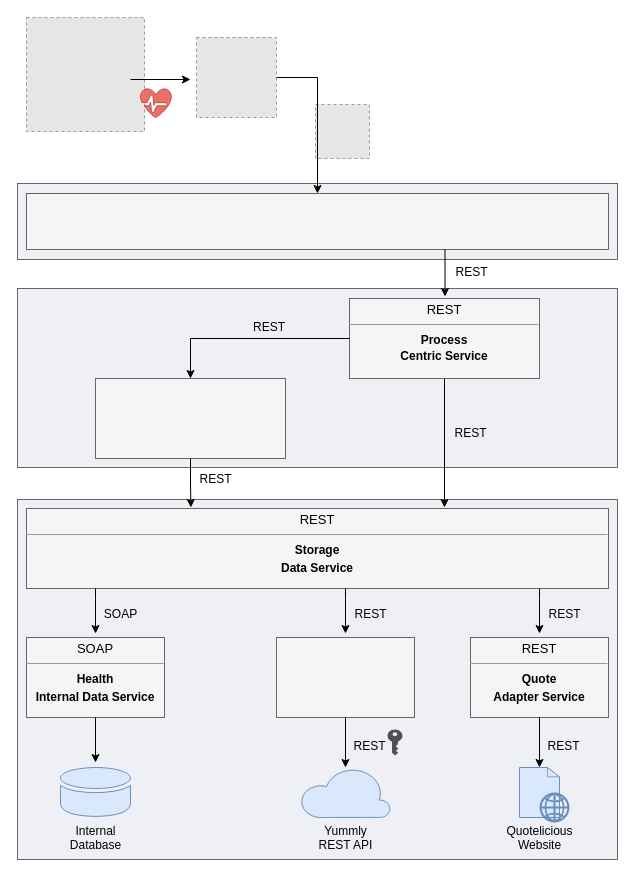
Some shapes in this 635 by 877 pixel diagram are drawn without their labels. Grey dashed boxes stand in for pictures. The shapes that lost their labels are listed below. From the top down, each one's centre as x and y in pixels, then its label:
(x=317, y=221): Graphical User Interface
(x=190, y=418): REST Business Logic Service
(x=345, y=677): REST Recipe Adapter Service
